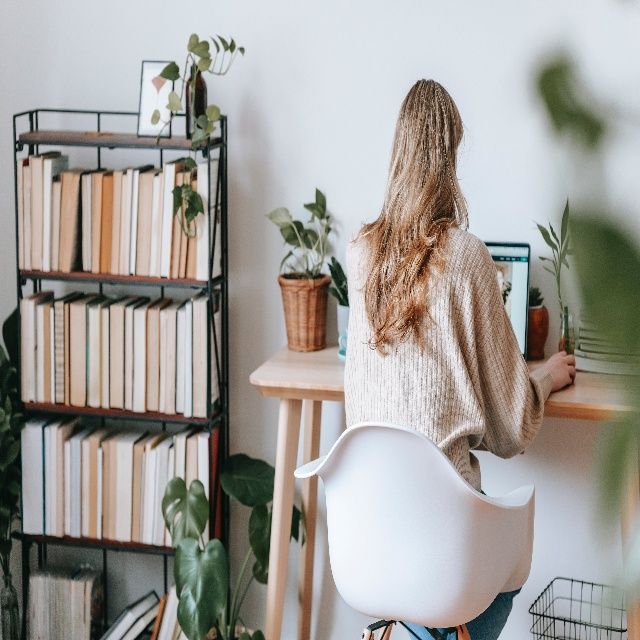Sin_guantes: (545, 349, 577, 392)
